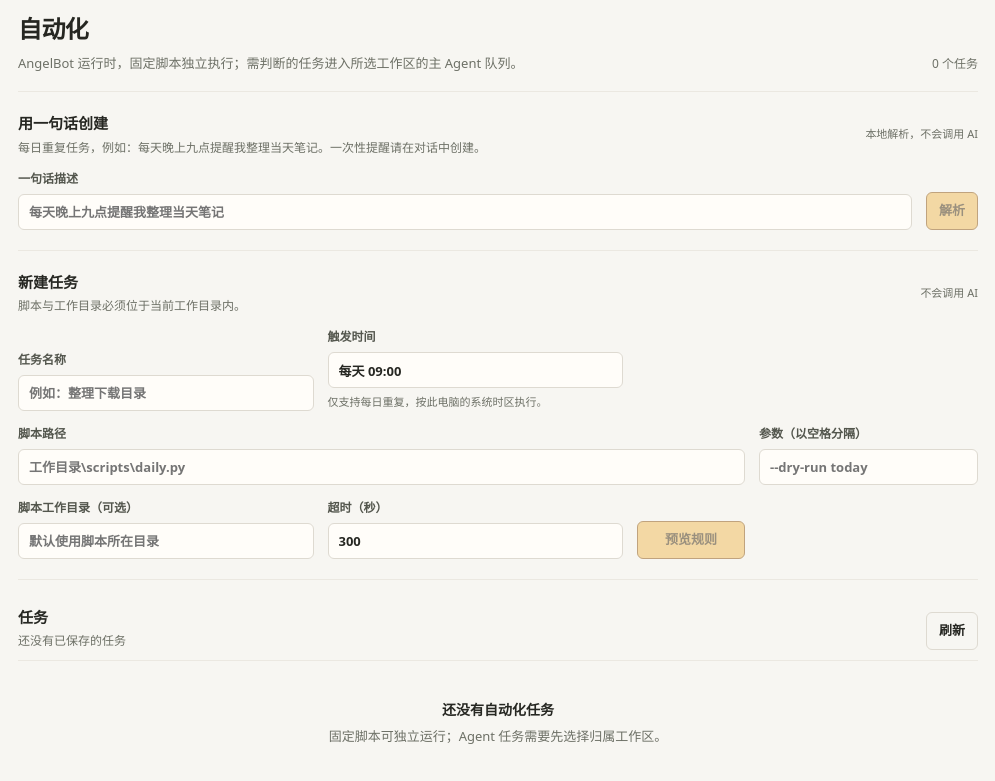
Test: AutomationPage › does not submit unsupported timing from the script form: 每周一 09:30
The width and height of the screenshot is (995, 781).
Type "生成日报" into the field labelled "任务名称".
click(166, 393); type("生成日报")  # box x1=18 y1=375 x2=314 y2=411
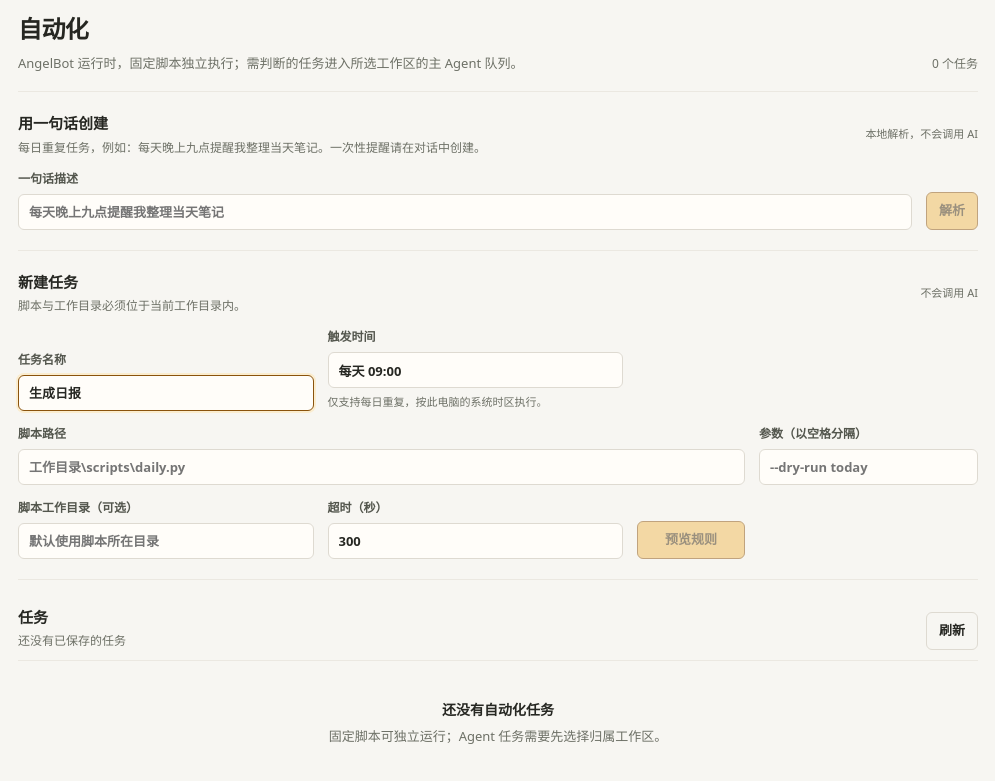
Type "每周一 09:30" into the field labelled "触发时间 仅支持每日重复，按此电脑的系统时区执行。".
click(475, 370); type("每周一 09:30")  # box x1=328 y1=352 x2=623 y2=388
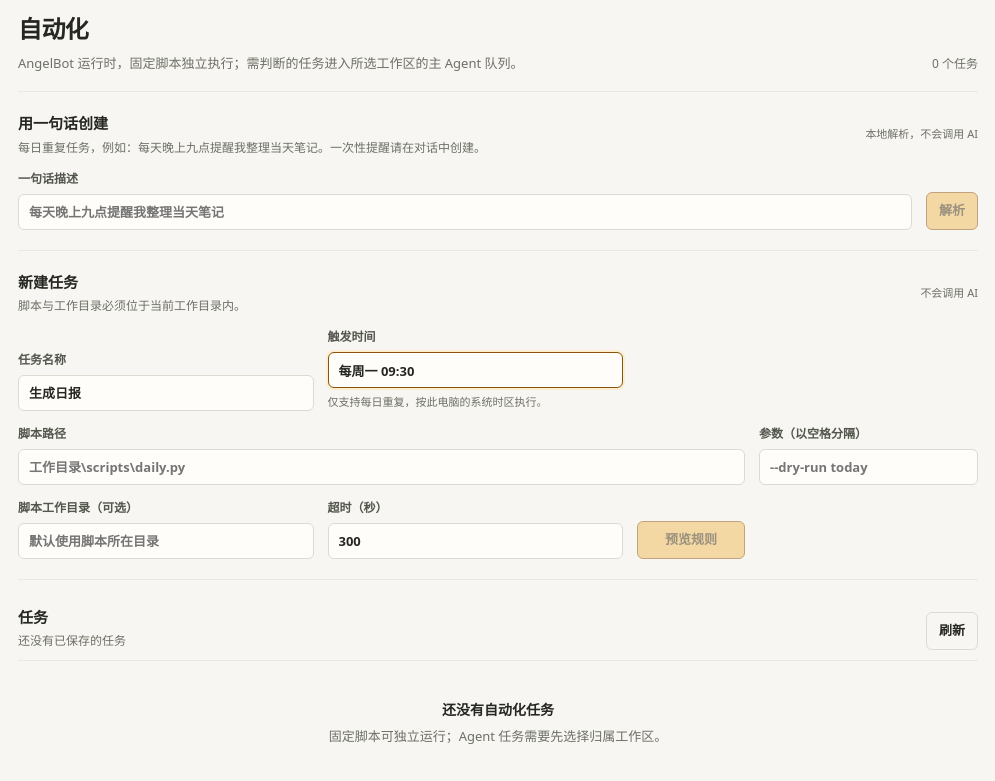
Type "scripts/report.py" into the field labelled "脚本路径".
click(382, 467); type("scripts/report.py")  # box x1=18 y1=449 x2=745 y2=485
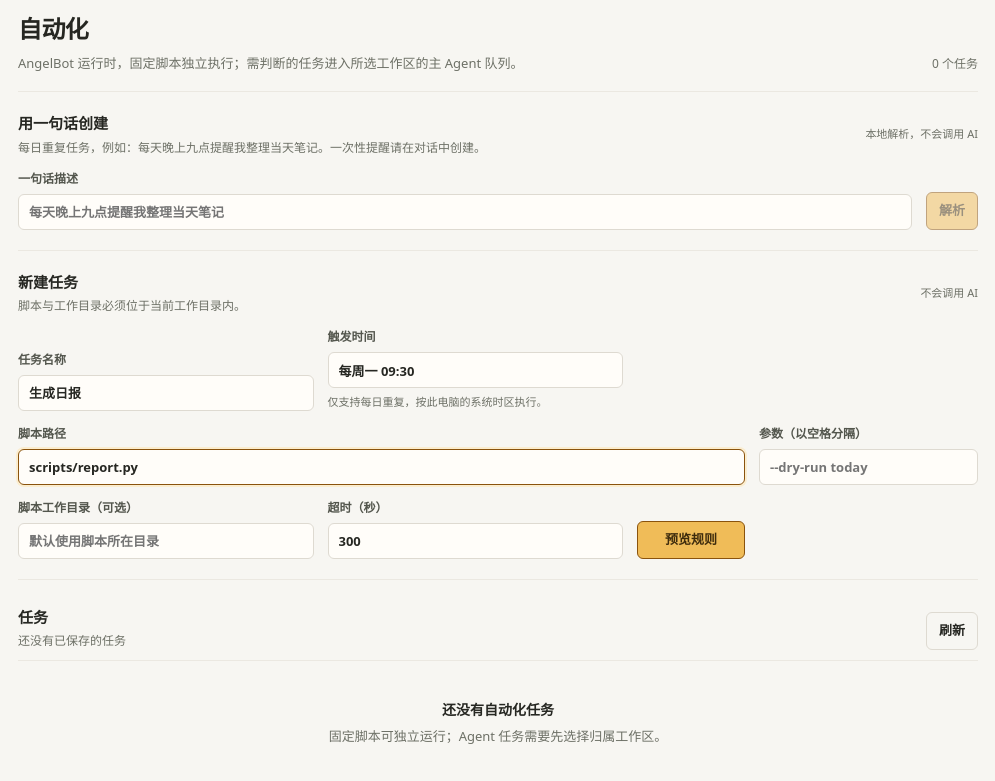
Click the button "预览规则".
click(691, 540)  # box x1=637 y1=521 x2=745 y2=559
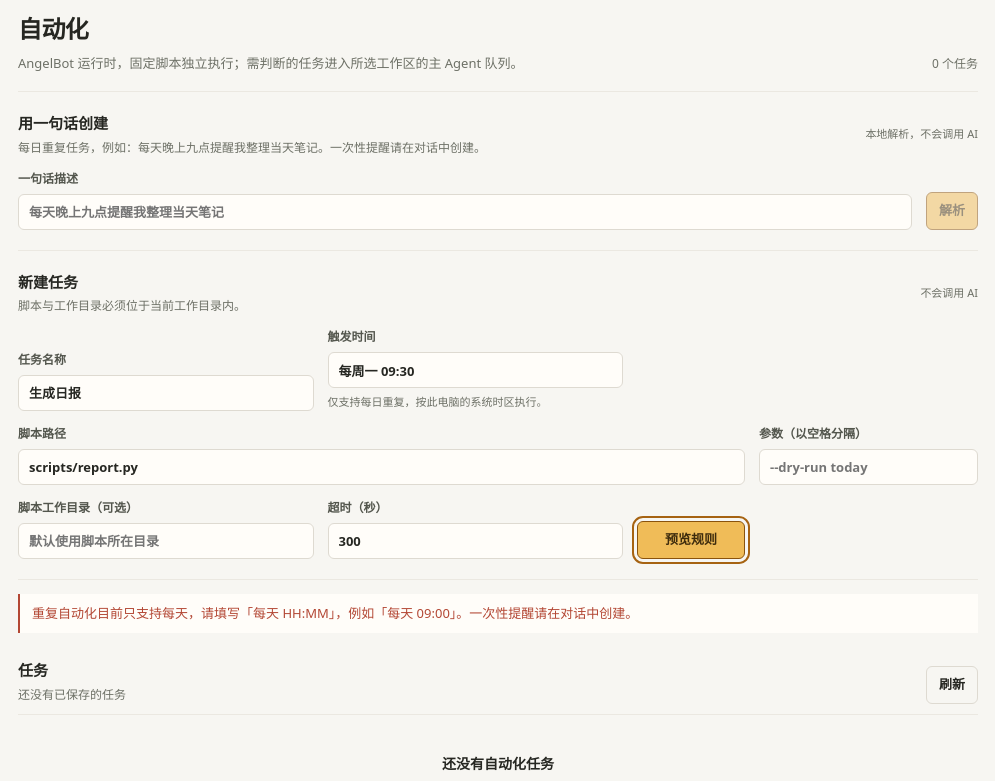
Result: the message shows "重复自动化目前只支持每天" at x1=32 y1=604 x2=638 y2=622
